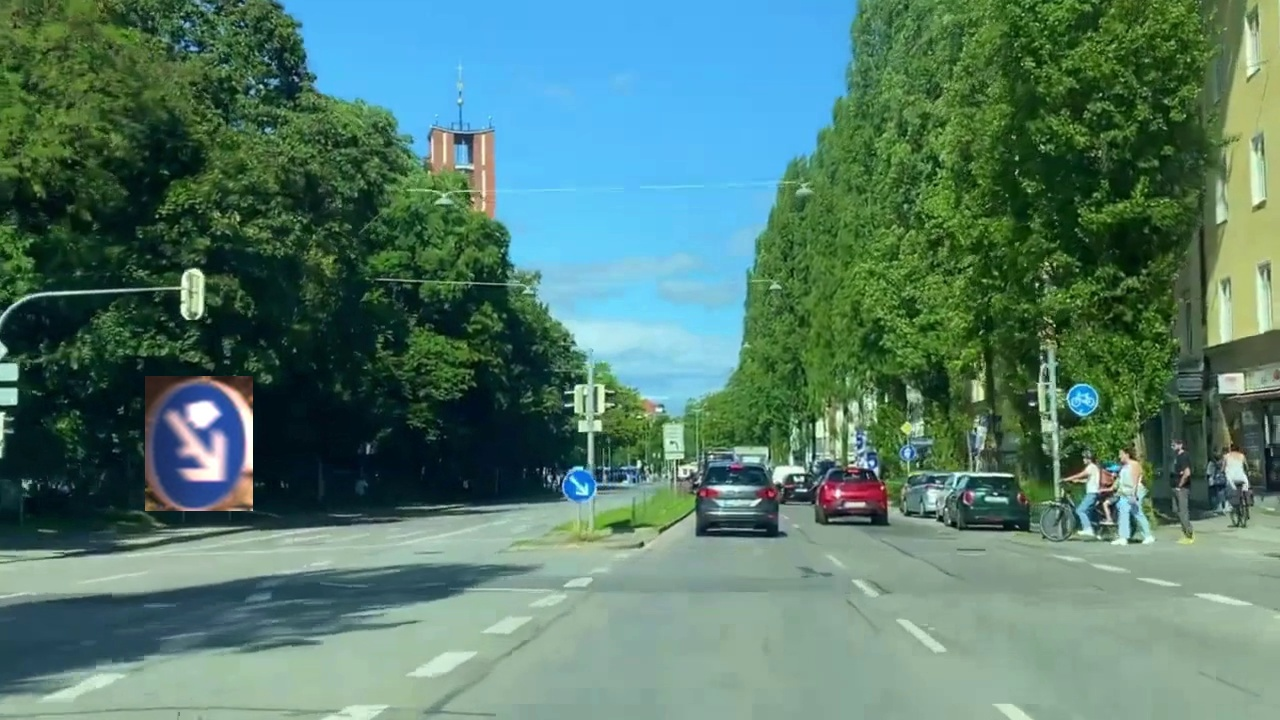Keep right: (145, 376, 253, 511)
